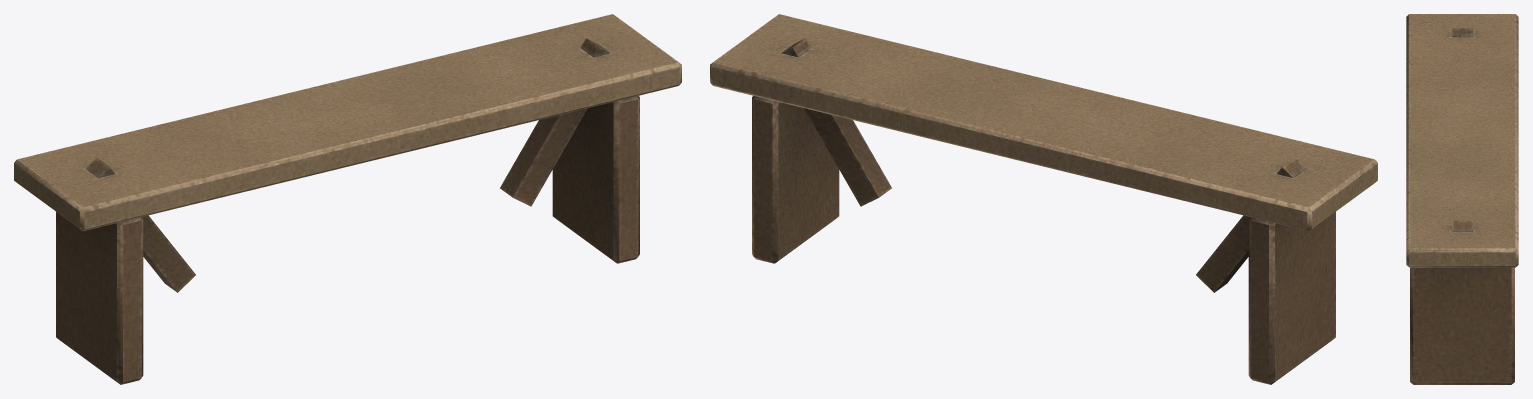
Rendered from banco.glb.
3 renders of one model, left to right at view 1: azimuth 30°, elevation 25°; view 2: azimuth 150°, elevation 25°; view 3: azimuth 270°, elevation 25°, orthographic. The views are drawn at different scales.
Parts seen in each view (by area): view 1: banco; view 2: banco; view 3: banco.
Boxes of the visible parts, x1,y1,x2,y2 form: banco: (14,14,681,384); banco: (710,14,1377,384); banco: (1406,14,1518,384).
Bounding box in the file's own units: 1.6 × 0.501 × 0.32.
1 material, 1 textured.
